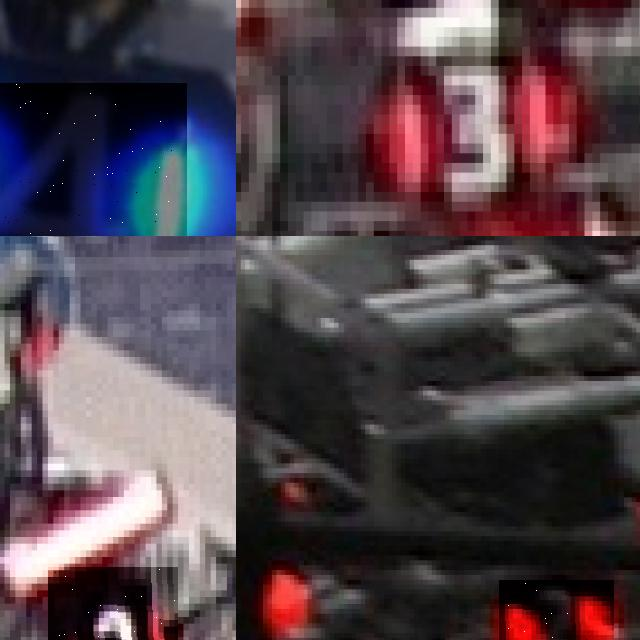B4: (0, 82, 187, 236)
R2: (498, 579, 614, 640)
R3: (354, 42, 573, 206), (48, 567, 178, 640)
